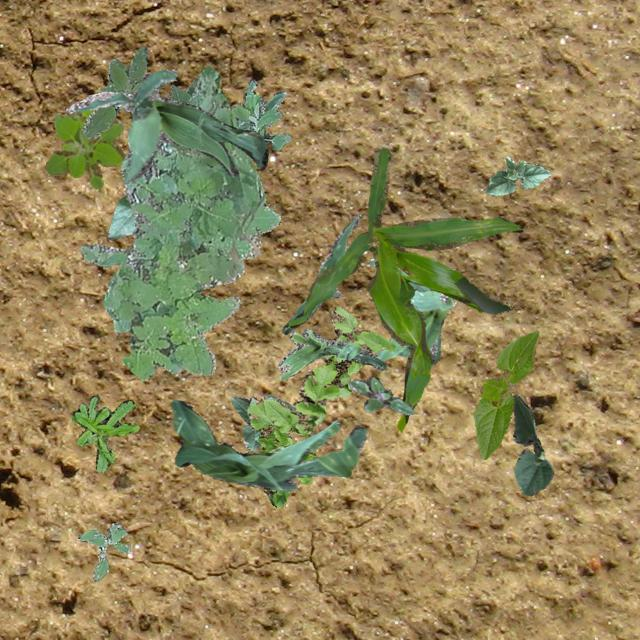crop: (288, 146, 522, 430), (65, 68, 268, 182), (170, 400, 366, 490), (282, 214, 359, 334), (368, 258, 454, 364), (472, 331, 538, 458), (276, 328, 384, 380), (512, 394, 552, 494), (230, 394, 294, 450), (484, 156, 550, 194), (106, 194, 134, 238), (168, 74, 198, 102)
weed: (78, 64, 280, 380), (246, 306, 394, 508), (44, 109, 124, 188), (80, 46, 146, 138), (70, 394, 138, 472), (230, 78, 290, 150), (76, 522, 128, 580), (348, 376, 412, 414)
